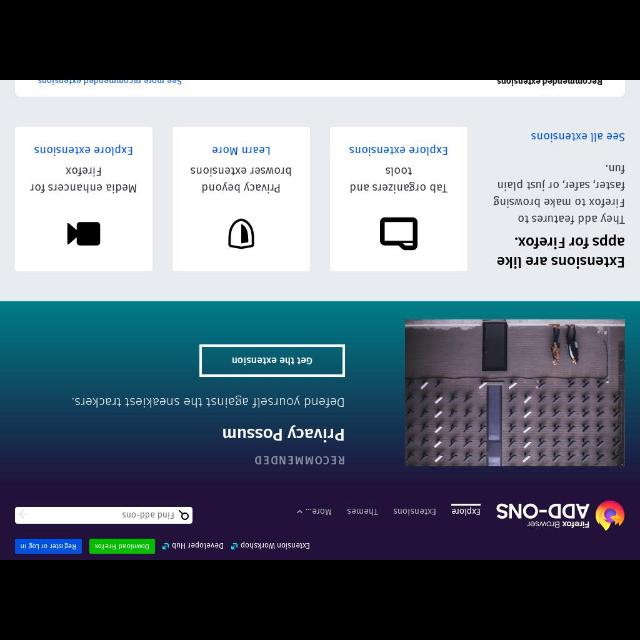icon: (380, 217, 418, 251), (228, 218, 255, 250), (66, 222, 100, 246), (178, 508, 188, 520), (18, 509, 28, 518), (230, 542, 238, 550), (162, 542, 170, 550), (295, 509, 303, 515)
image: (405, 318, 625, 468), (496, 500, 624, 534)
input: (14, 506, 192, 524)
multitab: (345, 504, 481, 518)
spinner: (296, 508, 332, 516)
text: (493, 164, 625, 224), (497, 234, 625, 268), (190, 166, 290, 194), (30, 167, 136, 193), (350, 166, 448, 194), (72, 398, 344, 408), (222, 424, 344, 444), (34, 146, 132, 156), (531, 132, 625, 142), (254, 455, 344, 465), (232, 356, 312, 366), (349, 146, 447, 154), (240, 540, 310, 550), (171, 540, 223, 550), (212, 146, 270, 154), (20, 542, 76, 550), (122, 512, 174, 520), (392, 508, 436, 516), (94, 544, 148, 550), (450, 506, 480, 516), (346, 508, 378, 516), (304, 508, 332, 516)
textbutton: (199, 344, 345, 376), (14, 538, 82, 554), (89, 538, 155, 554)
